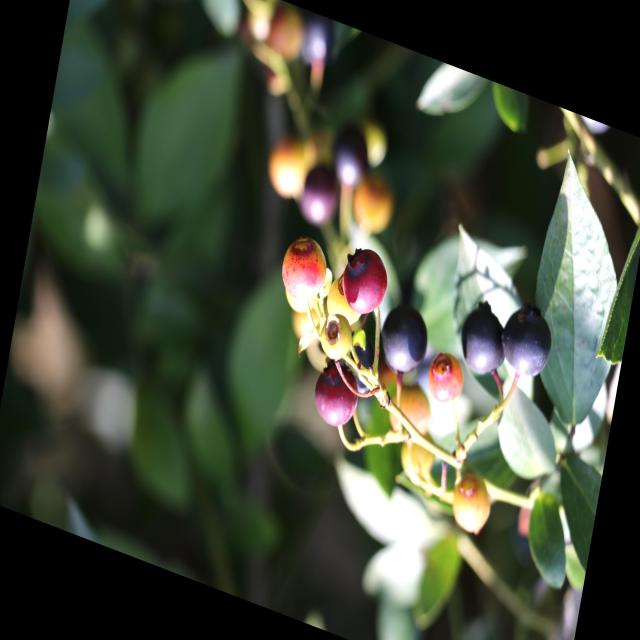blueberry: (498, 296, 557, 386), (455, 293, 512, 385), (374, 292, 430, 377), (298, 158, 343, 234), (330, 127, 372, 191)
blueberry-halfripe: (338, 236, 394, 322), (277, 228, 331, 310), (308, 358, 364, 436), (422, 343, 468, 412)
blueberry-unripe: (445, 464, 495, 541), (267, 132, 314, 212), (383, 383, 433, 448), (348, 174, 396, 240), (314, 308, 360, 369), (321, 268, 366, 330), (394, 437, 437, 491)
